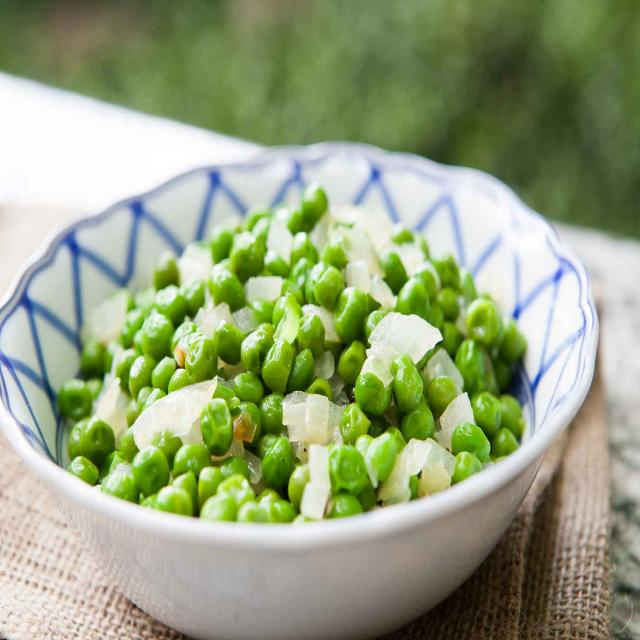pea: (237, 308, 304, 477), (156, 460, 282, 522), (358, 362, 461, 436)
